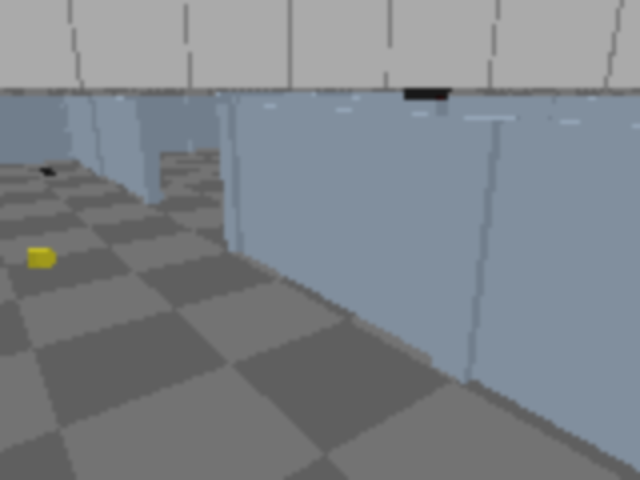puck: (27, 246, 57, 270)
